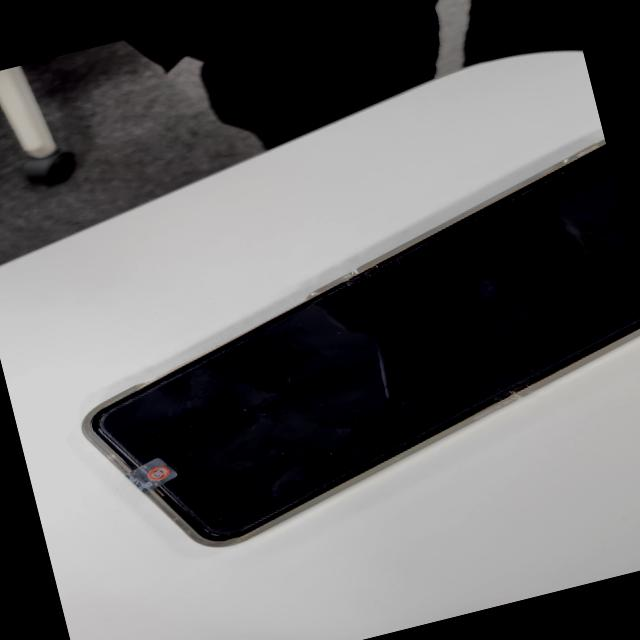phone: (43, 138, 640, 574)
sticker: (122, 454, 180, 496)
